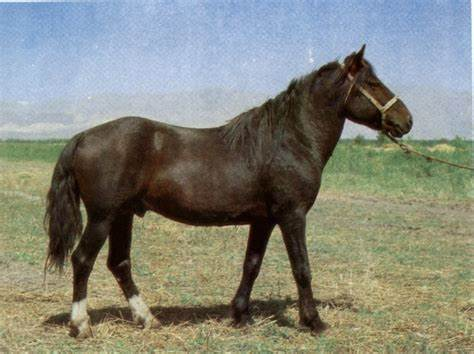horse: (43, 43, 418, 338)
